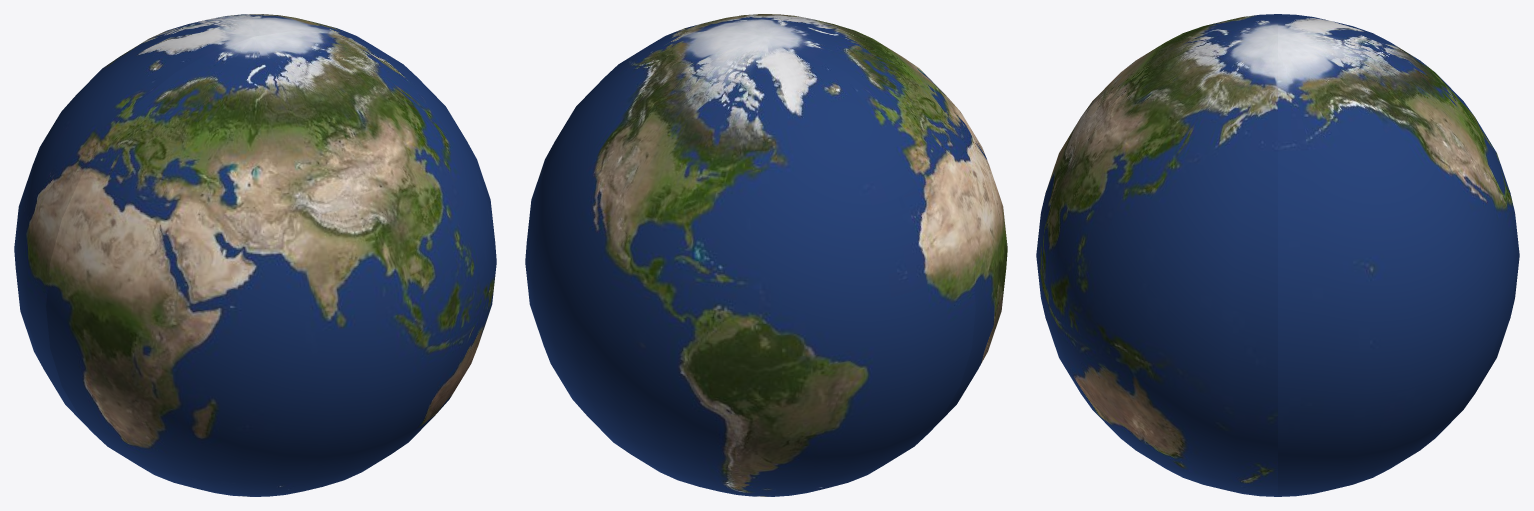
The model's file is earth.glb.
3 views of the same model, side by side, from view 1: azimuth 30°, elevation 25°; view 2: azimuth 150°, elevation 25°; view 3: azimuth 270°, elevation 25° (orthographic).
Visible parts, largest first — view 1: Sphere.049, Sphere.048; view 2: Sphere.048, Sphere.049; view 3: Sphere.048, Sphere.049.
Part boxes in pixels (x1,y1,x2,y2): Sphere.049: [46, 30, 496, 496]; Sphere.048: [14, 14, 370, 443]; Sphere.048: [525, 30, 975, 496]; Sphere.049: [651, 14, 1007, 443]; Sphere.048: [1278, 14, 1519, 496]; Sphere.049: [1036, 14, 1277, 496].
Size of the model in its own units: 2 by 2 by 2.
6 materials, 6 textured.
